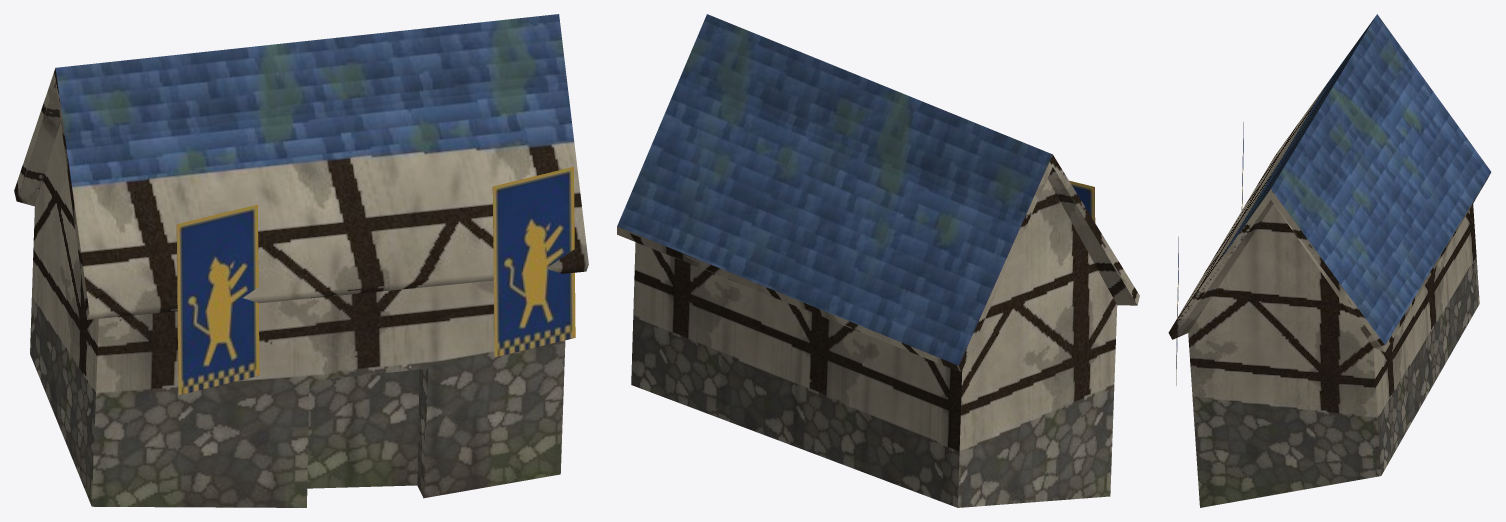
The model's file is house_06_card_lod1.glb.
3 views of the same model, side by side, from view 1: azimuth 30°, elevation 25°; view 2: azimuth 150°, elevation 25°; view 3: azimuth 270°, elevation 25° (orthographic). The views are drawn at different scales.
Visible parts, largest first — view 1: house_06_game_card; view 2: house_06_game_card; view 3: house_06_game_card.
Boxes of the visible parts, x1,y1,x2,y2 form: house_06_game_card: [14, 14, 588, 507]; house_06_game_card: [617, 14, 1139, 507]; house_06_game_card: [1168, 14, 1491, 507].
Size of the model in its own units: 8.5 by 6.96 by 6.01.
Materials: 1 (1 with a texture image).
